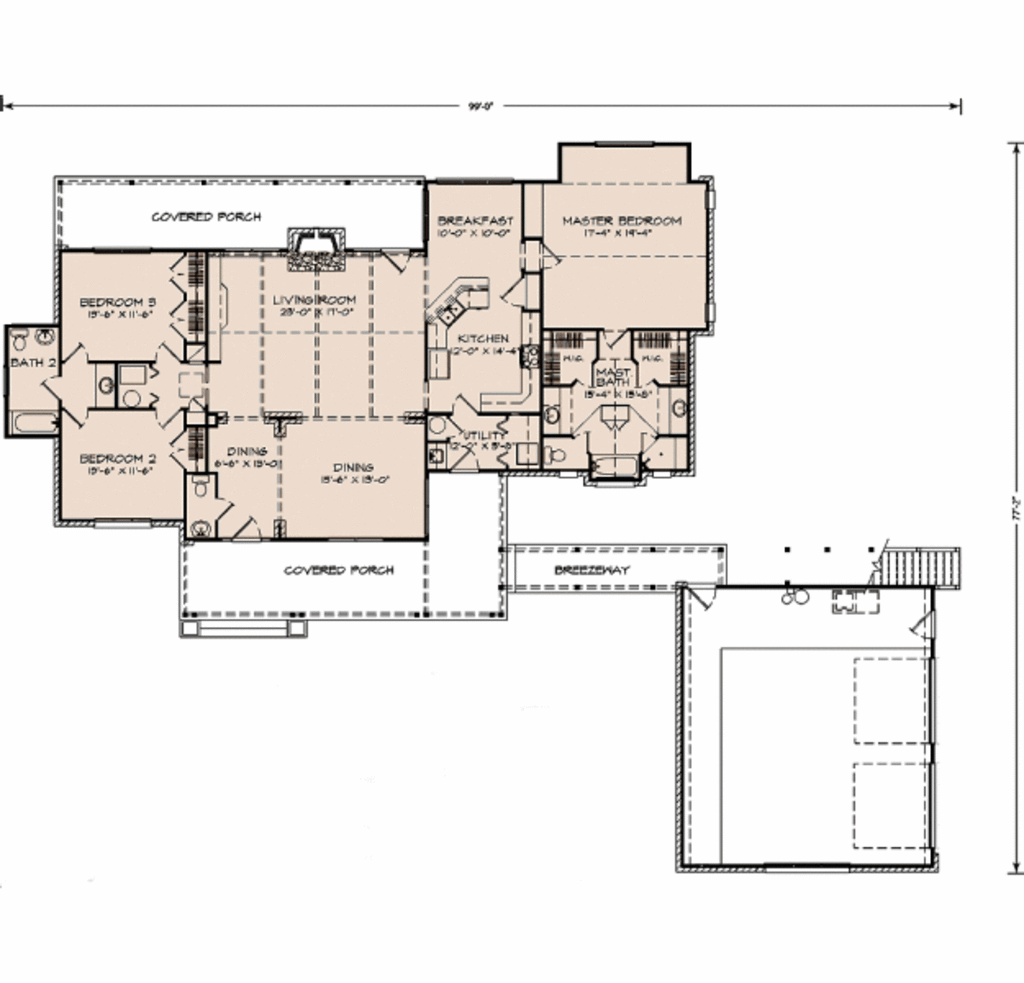door: (225, 498, 274, 542), (495, 275, 544, 312), (677, 579, 719, 615), (380, 245, 419, 282), (597, 316, 634, 352), (912, 600, 942, 642), (40, 362, 67, 406), (445, 440, 484, 470), (163, 427, 189, 471), (51, 337, 91, 361), (445, 388, 477, 417), (149, 402, 183, 429), (539, 239, 568, 269), (61, 402, 94, 427), (213, 495, 235, 527), (571, 425, 592, 455)
large_sink: (181, 474, 218, 504), (535, 438, 568, 469), (8, 325, 31, 351)
small_sink: (97, 361, 121, 408), (667, 384, 691, 429), (538, 396, 566, 432), (177, 514, 213, 537), (31, 323, 60, 343)
tub: (5, 408, 79, 438), (591, 452, 638, 480)
twin_sink: (422, 284, 476, 334)
